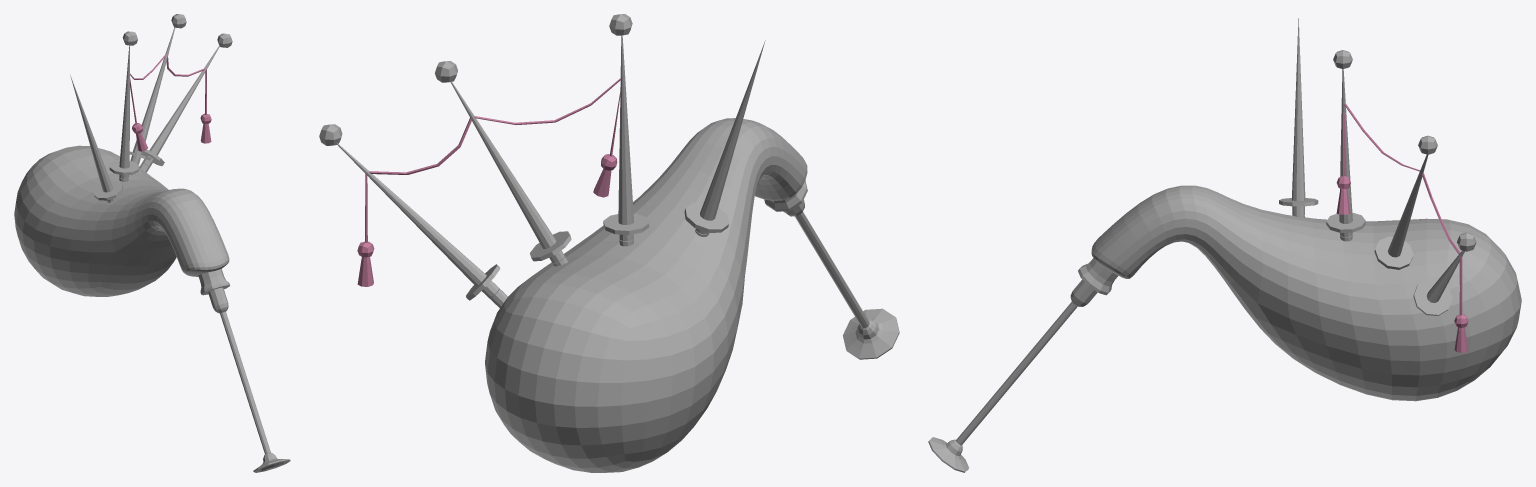
File: Bagpipes.fbx
The picture shows the model from 3 angles, left to right: view 1: azimuth 30°, elevation 25°; view 2: azimuth 150°, elevation 25°; view 3: azimuth 270°, elevation 25°; orthographic projection. The views are drawn at different scales.
Visible parts, largest first — view 1: Cube, Circle, Circle.001, Circle.002, Circle.004, Circle.003, Circle.005; view 2: Cube, Circle, Circle.002, Circle.001, Circle.003, Circle.004, Circle.005; view 3: Cube, Circle, Circle.001, Circle.003, Circle.002, Circle.004, Circle.005.
Boxes of the visible parts, x1=… form: Cube: x1=14, y1=145, x2=229, y2=296; Circle: x1=198, y1=269, x2=290, y2=472; Circle.001: x1=70, y1=74, x2=122, y2=202; Circle.002: x1=109, y1=45, x2=139, y2=181; Circle.004: x1=139, y1=45, x2=219, y2=172; Circle.003: x1=129, y1=27, x2=175, y2=164; Circle.005: x1=130, y1=54, x2=206, y2=124; Cube: x1=485, y1=118, x2=807, y2=472; Circle: x1=764, y1=180, x2=899, y2=359; Circle.002: x1=603, y1=35, x2=649, y2=246; Circle.001: x1=684, y1=40, x2=765, y2=236; Circle.003: x1=450, y1=82, x2=571, y2=266; Circle.004: x1=337, y1=143, x2=507, y2=307; Circle.005: x1=364, y1=78, x2=621, y2=242; Cube: x1=1091, y1=185, x2=1521, y2=401; Circle: x1=928, y1=258, x2=1117, y2=472; Circle.001: x1=1279, y1=18, x2=1318, y2=217; Circle.003: x1=1374, y1=154, x2=1428, y2=269; Circle.002: x1=1326, y1=69, x2=1365, y2=241; Circle.004: x1=1413, y1=250, x2=1464, y2=315; Circle.005: x1=1342, y1=103, x2=1462, y2=315.
Size of the model in its own units: 327 by 454 by 573.
